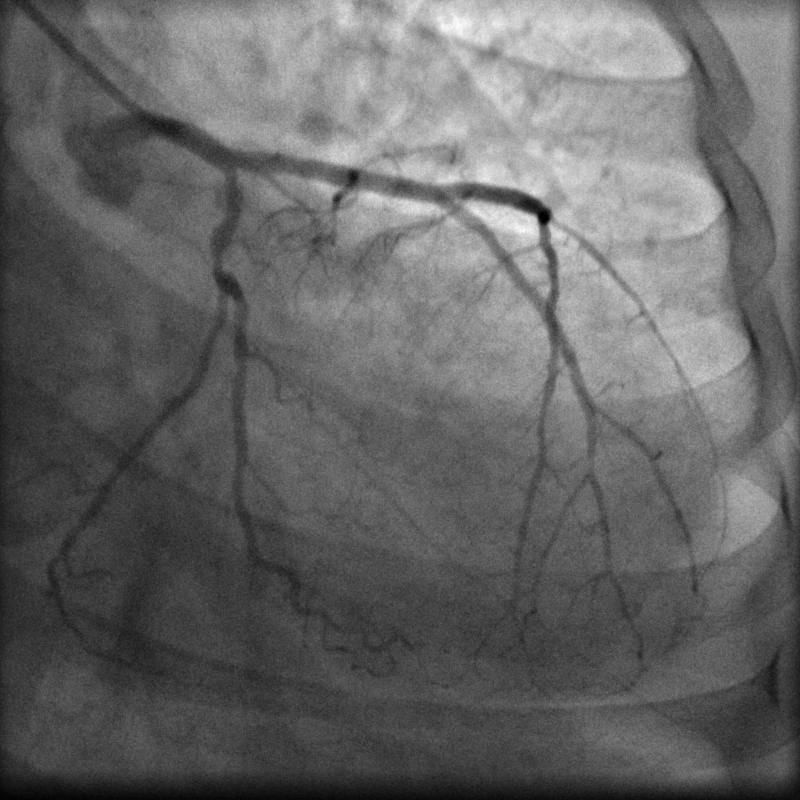Stenosis: (201, 237, 238, 276)
